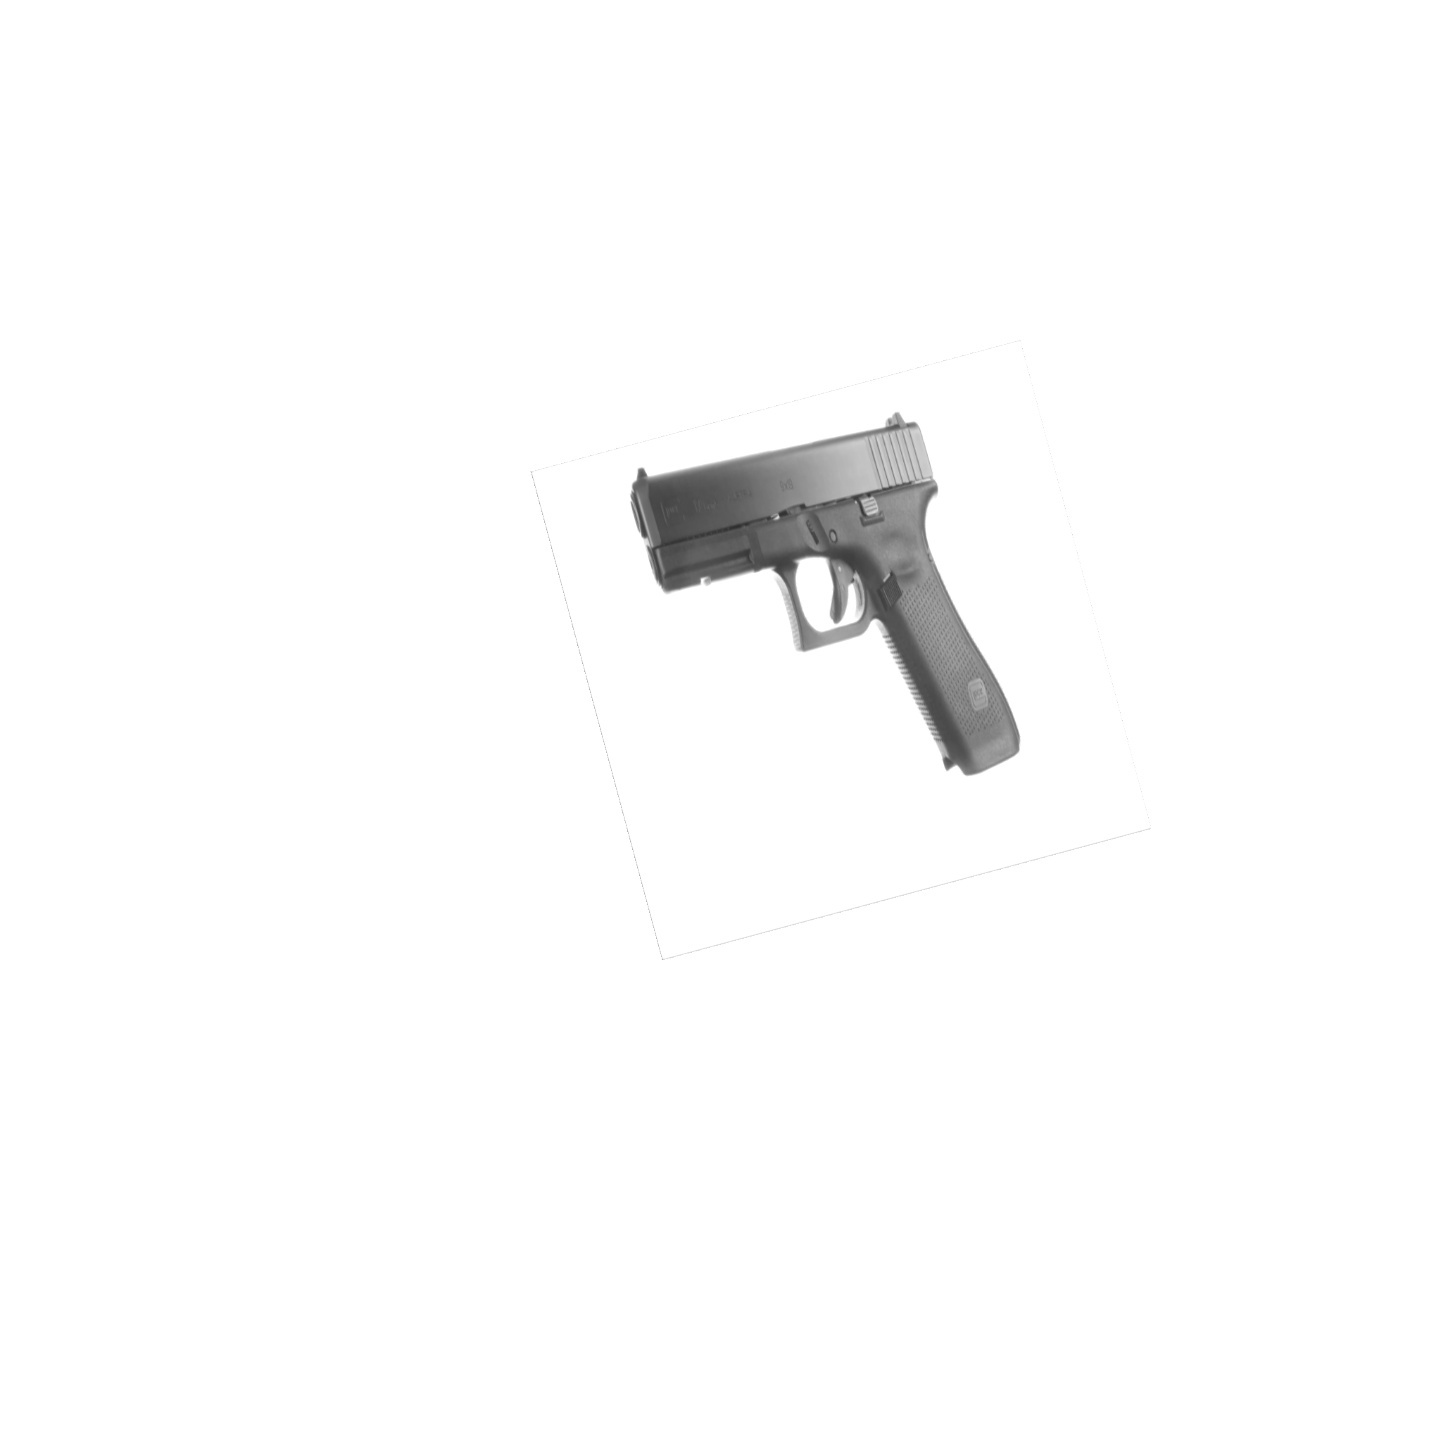gun: (611, 406, 1032, 797)
